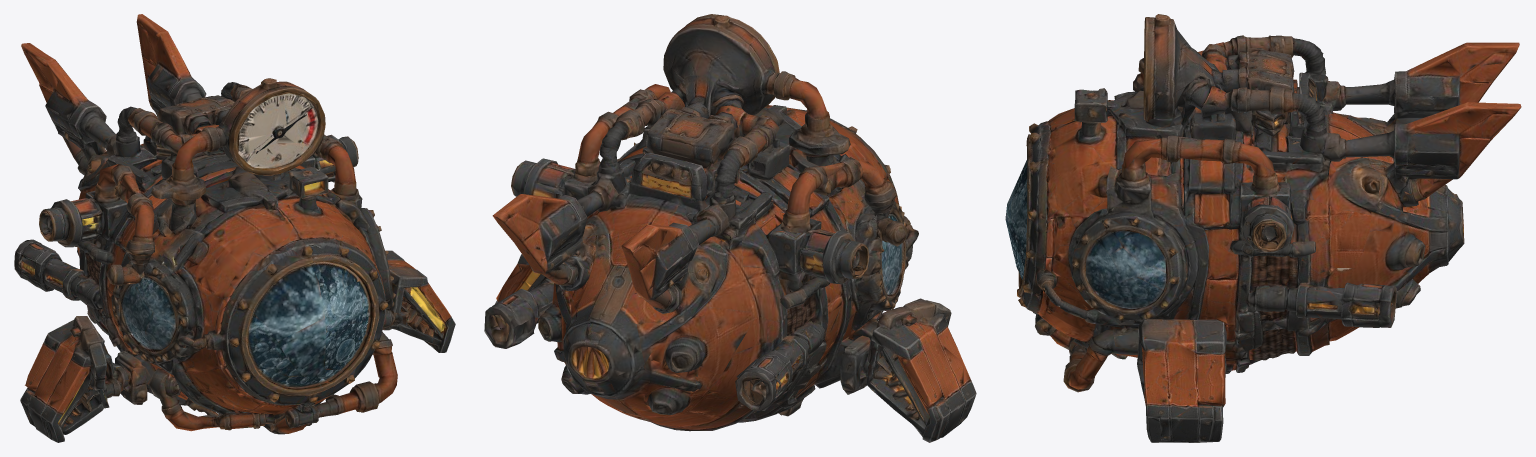
Rendered from boiler.glb.
3 renders of one model, left to right at view 1: azimuth 30°, elevation 25°; view 2: azimuth 150°, elevation 25°; view 3: azimuth 270°, elevation 25°, orthographic. The views are drawn at different scales.
Size of the model in its own units: 1.86 by 1.45 by 1.9.
Materials: 1 (1 with a texture image).
